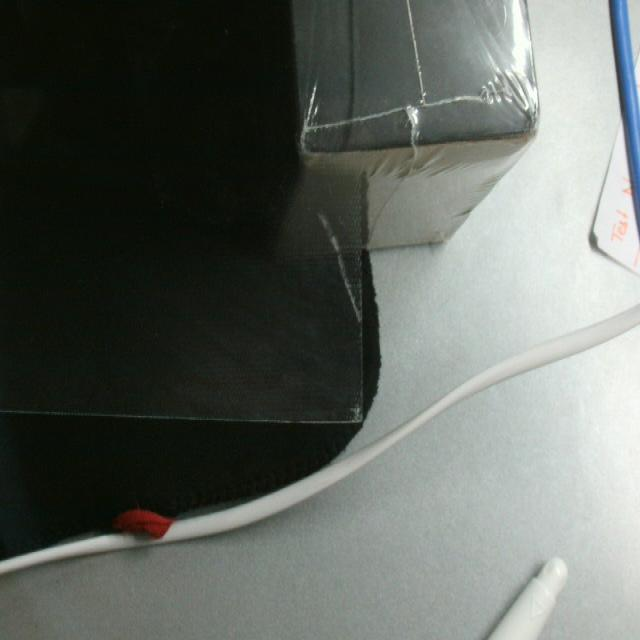edge_chip: (342, 396, 367, 426)
scratch: (314, 202, 365, 330)
